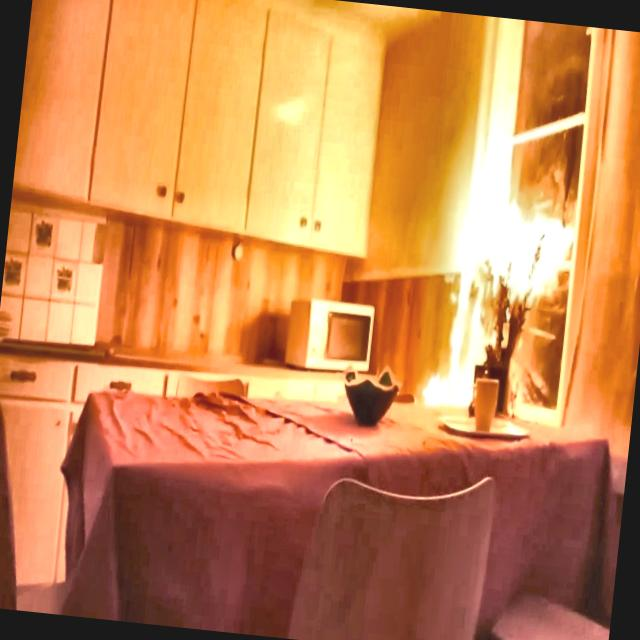fire: (412, 140, 586, 426)
